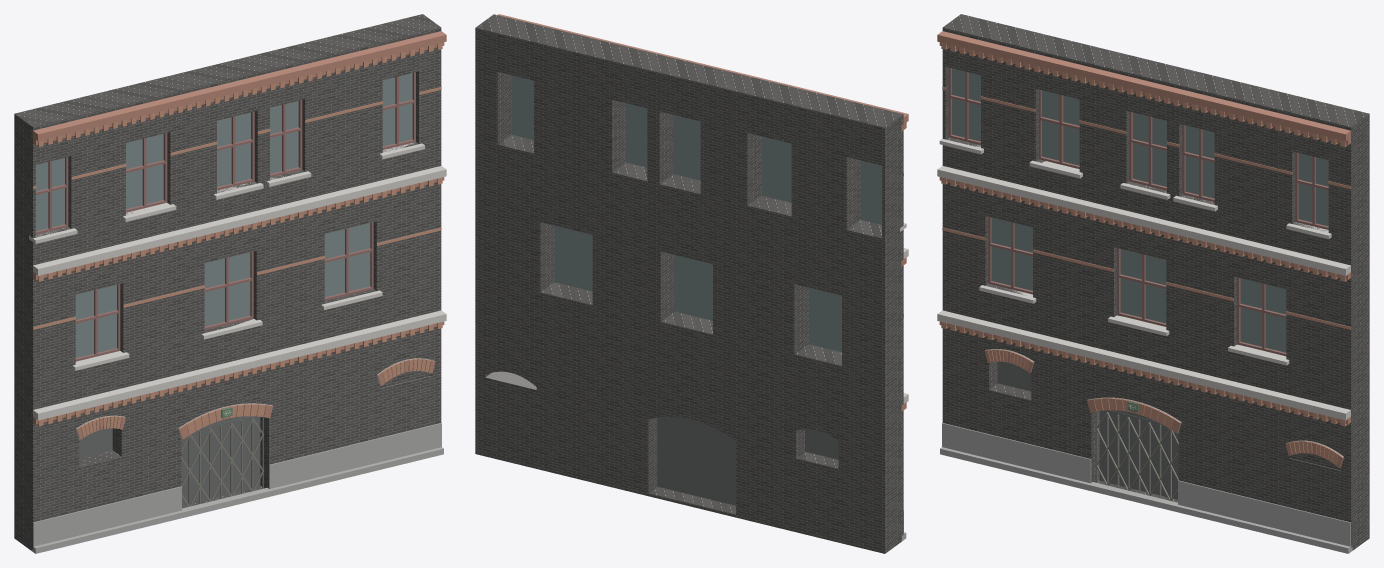
Rendered from huangpu-zili-waterworks-office-front-lod.glb.
3 renders of one model, left to right at view 1: azimuth 30°, elevation 25°; view 2: azimuth 150°, elevation 25°; view 3: azimuth 330°, elevation 25°, orthographic.
Visible parts, largest first — view 1: 自力大楼（英商自来水公司办公楼）江西中路464号券门及上层窗墙; view 2: 自力大楼（英商自来水公司办公楼）江西中路464号券门及上层窗墙; view 3: 自力大楼（英商自来水公司办公楼）江西中路464号券门及上层窗墙.
Part boxes in pixels (x1,y1,x2,y2): 自力大楼（英商自来水公司办公楼）江西中路464号券门及上层窗墙: (14, 14, 446, 553); 自力大楼（英商自来水公司办公楼）江西中路464号券门及上层窗墙: (475, 14, 908, 553); 自力大楼（英商自来水公司办公楼）江西中路464号券门及上层窗墙: (937, 14, 1369, 553).
Size of the model in its own units: 11.33 by 11.25 by 1.13.
Materials: 12 (1 with a texture image).
